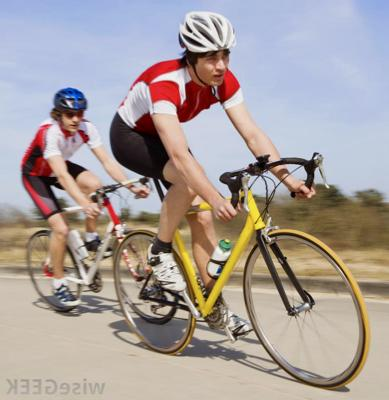With Helmet: (176, 10, 239, 89), (47, 82, 95, 135)
